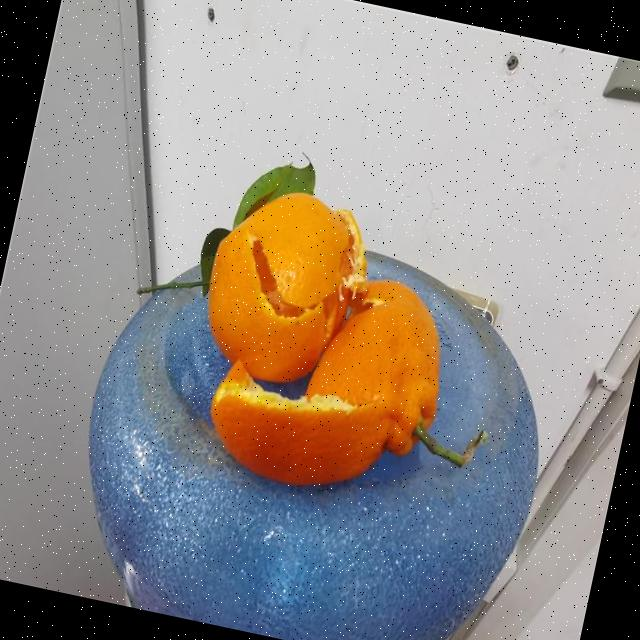orange-peel: (167, 174, 524, 522), (189, 174, 379, 396), (195, 353, 398, 502)
